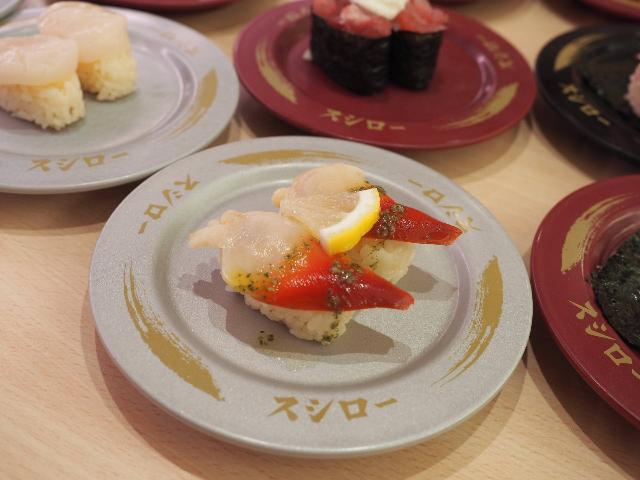janback: (526, 0, 640, 162)
janred: (235, 5, 516, 136), (537, 190, 640, 409)
janwhite: (111, 147, 487, 412), (0, 5, 236, 176)
